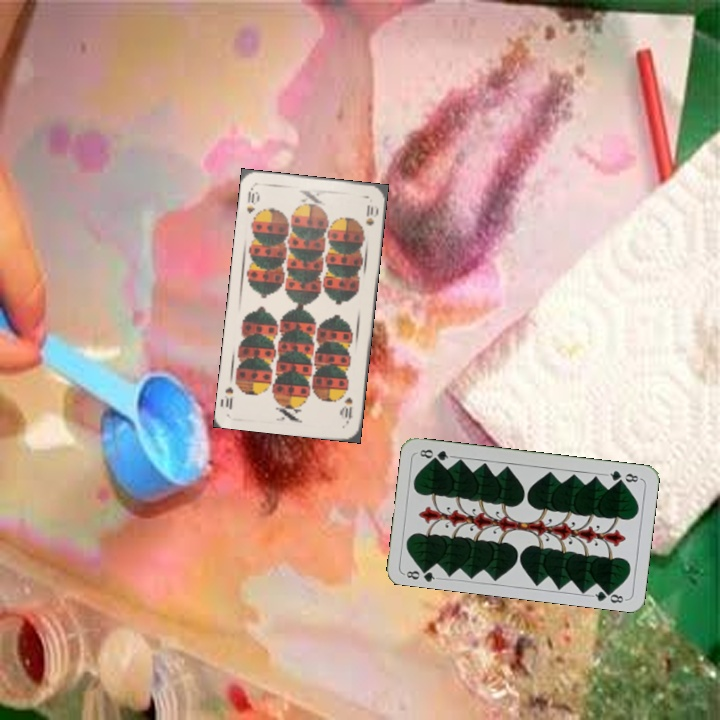G8: (401, 562, 441, 584), (602, 466, 643, 485)
S10: (243, 184, 262, 216), (339, 393, 355, 425)
